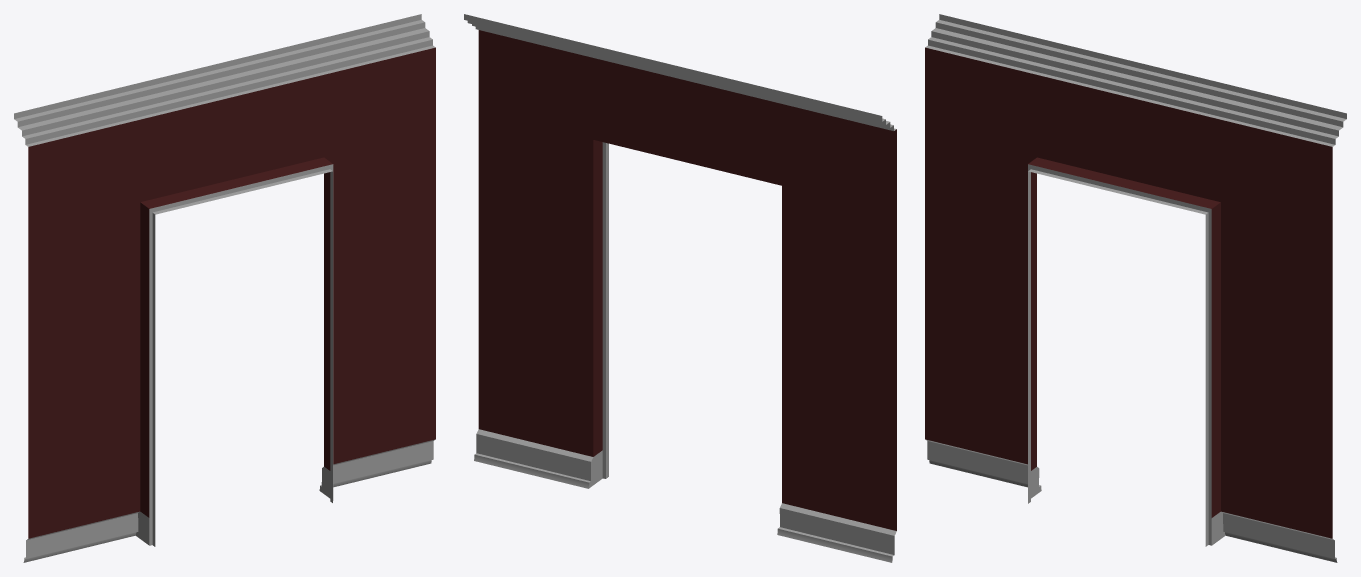
File: halfFrame.fbx
3 renders of one model, left to right at view 1: azimuth 30°, elevation 25°; view 2: azimuth 150°, elevation 25°; view 3: azimuth 330°, elevation 25°, orthographic. The views are drawn at different scales.
Visible parts, largest first — view 1: WallOneSide14; view 2: WallOneSide14; view 3: WallOneSide14.
Boxes of the visible parts, left/top/right/bottom form: WallOneSide14: left=14, top=14, right=435, bottom=562; WallOneSide14: left=464, top=14, right=896, bottom=562; WallOneSide14: left=925, top=14, right=1346, bottom=562.
Size of the model in its own units: 3.47 by 3.6 by 0.3879.
